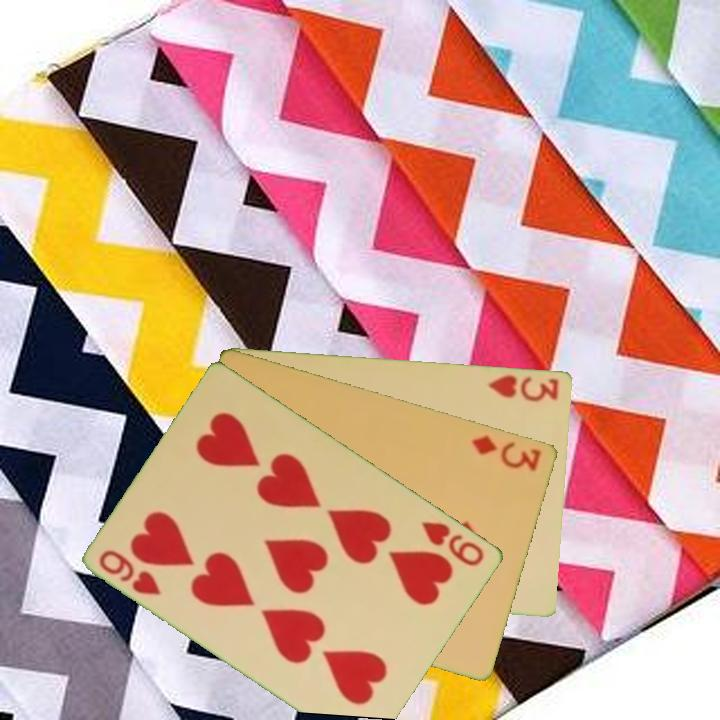3d: (469, 431, 544, 474)
3h: (485, 371, 562, 405)
9h: (95, 546, 165, 599), (418, 517, 488, 569)
